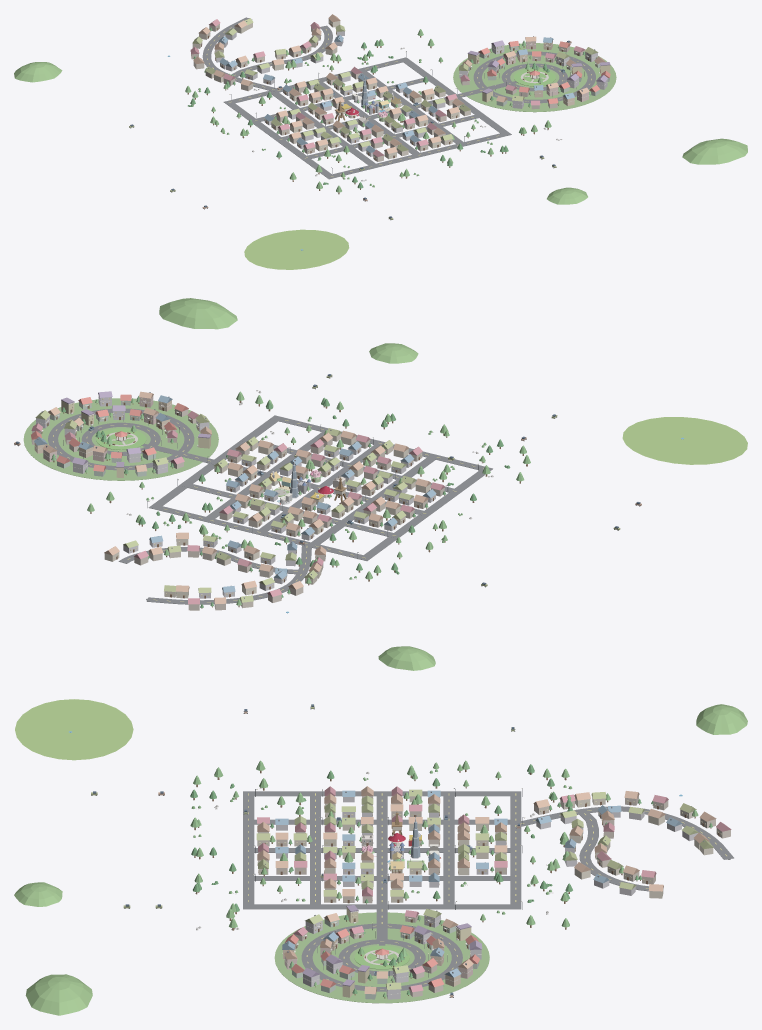
File: live-day12.glb
The picture shows the model from 3 angles, top to bottom: view 1: azimuth 30°, elevation 25°; view 2: azimuth 150°, elevation 25°; view 3: azimuth 270°, elevation 25°; orthographic projection. The views are drawn at different scales.
Visible parts, largest first — view 1: pad.001, terrain_Meadow Run Green, terrain_North Ridge, ringroad.003, roadH, terrain_Willow Hill, roadV, suburban_road_00, roadV.004, roadH.001, roadH.004, roadV.001 (+6 smaller); view 2: pad.001, terrain_Meadow Run Green, terrain_North Ridge, ringroad.003, roadH.004, terrain_Willow Hill, roadV, suburban_road_00, roadV.004, roadH.003, roadH, terrain_Pine Knoll (+5 smaller); view 3: pad.001, terrain_Meadow Run Green, terrain_North Ridge, ringroad.003, roadH, roadH.003, roadH.002, roadH.004, roadV.004, roadH.001, terrain_Willow Hill, suburban_road_00 (+6 smaller).
Boxes of the visible parts, x1=… form: pad.001: x1=453, y1=43, x2=616, y2=112; terrain_Meadow Run Green: x1=244, y1=229, x2=349, y2=269; terrain_North Ridge: x1=682, y1=138, x2=747, y2=164; ringroad.003: x1=473, y1=51, x2=595, y2=103; roadH: x1=325, y1=131, x2=511, y2=179; terrain_Willow Hill: x1=14, y1=62, x2=62, y2=82; roadV: x1=228, y1=103, x2=332, y2=178; suburban_road_00: x1=202, y1=17, x2=278, y2=91; roadV.004: x1=403, y1=60, x2=511, y2=135; roadH.001: x1=300, y1=113, x2=485, y2=160; roadH.004: x1=224, y1=57, x2=409, y2=104; roadV.001: x1=272, y1=92, x2=375, y2=165; pad.001: x1=23, y1=398, x2=218, y2=480; terrain_Meadow Run Green: x1=622, y1=417, x2=747, y2=464; terrain_North Ridge: x1=159, y1=298, x2=237, y2=329; ringroad.003: x1=48, y1=408, x2=194, y2=470; roadH.004: x1=149, y1=504, x2=371, y2=560; terrain_Willow Hill: x1=378, y1=646, x2=435, y2=670; roadV: x1=358, y1=470, x2=485, y2=560; suburban_road_00: x1=146, y1=544, x2=311, y2=604; roadV.004: x1=149, y1=419, x2=278, y2=509; roadH.003: x1=179, y1=482, x2=401, y2=538; roadH: x1=270, y1=415, x2=492, y2=470; terrain_Pine Knoll: x1=369, y1=343, x2=418, y2=363; pad.001: x1=274, y1=912, x2=489, y2=1003; terrain_Meadow Run Green: x1=15, y1=699, x2=133, y2=760; terrain_North Ridge: x1=25, y1=974, x2=92, y2=1015; ringroad.003: x1=301, y1=923, x2=462, y2=991; roadH: x1=243, y1=791, x2=254, y2=909; roadH.003: x1=443, y1=791, x2=454, y2=909; roadH.002: x1=376, y1=791, x2=387, y2=906; roadH.004: x1=510, y1=791, x2=521, y2=909; roadV.004: x1=243, y1=904, x2=520, y2=909; roadH.001: x1=310, y1=791, x2=320, y2=909; terrain_Willow Hill: x1=696, y1=704, x2=747, y2=734; suburban_road_00: x1=513, y1=806, x2=733, y2=859.
Size of what is drawn, in the model's own units: 404 by 25.22 by 396.
